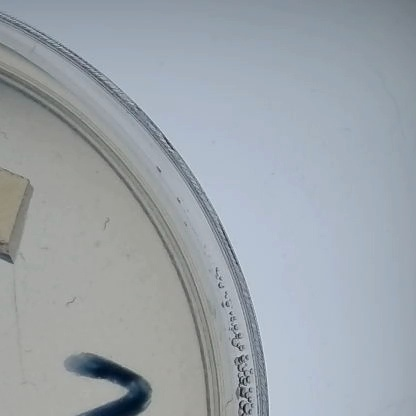worm: (84, 218, 118, 248), (55, 289, 81, 312), (11, 374, 34, 392), (33, 243, 53, 260), (0, 129, 14, 144), (21, 252, 29, 266)
